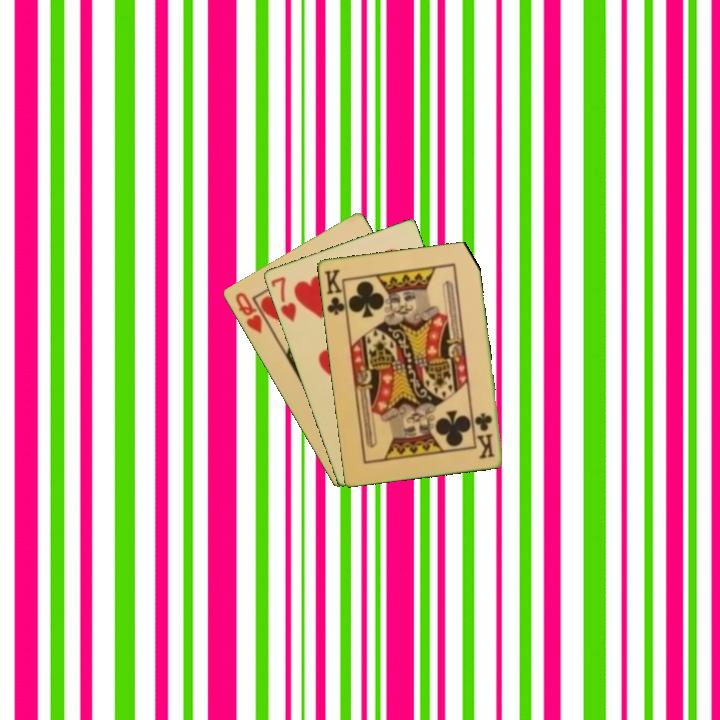7h: (267, 273, 299, 325)
Kc: (321, 265, 349, 319), (472, 409, 497, 461)
Qh: (231, 288, 265, 336)
